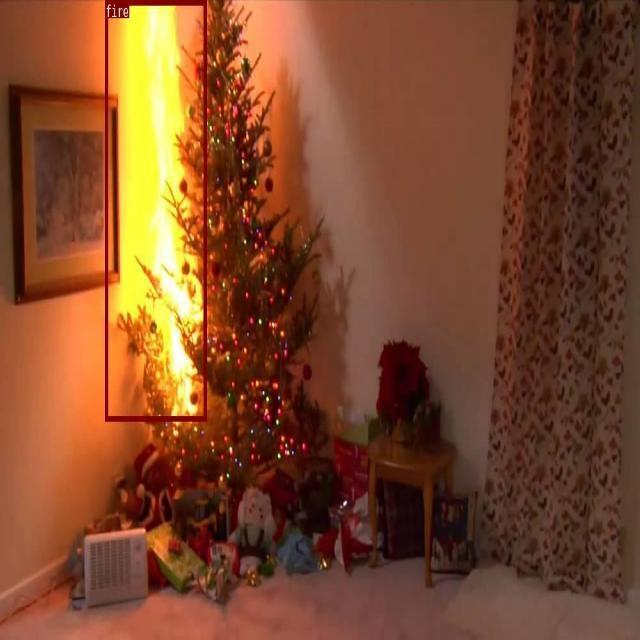fire: (105, 0, 206, 421)
